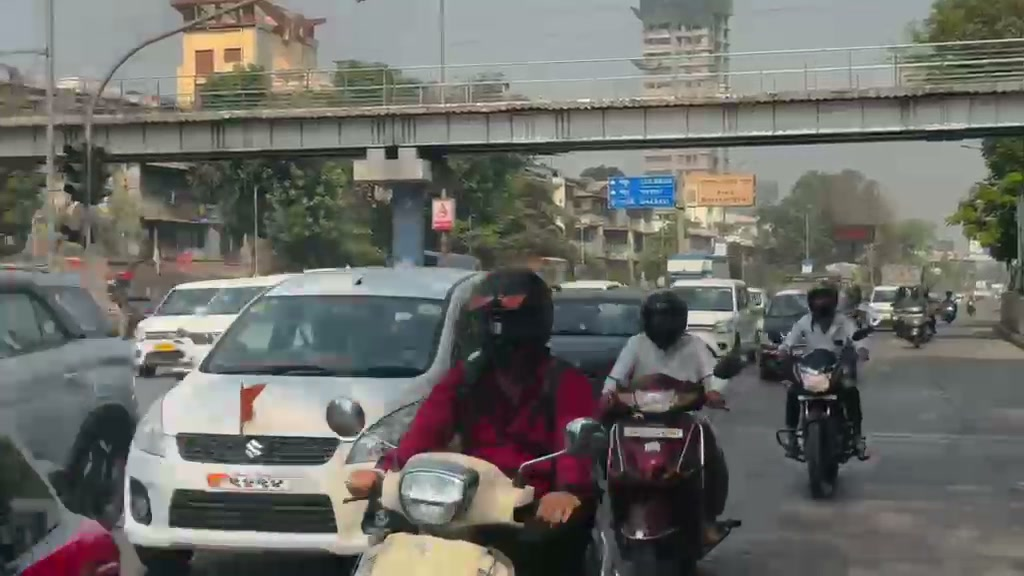car: (120, 265, 481, 569), (0, 268, 141, 520), (133, 276, 285, 378), (548, 282, 645, 390), (667, 277, 756, 377), (759, 291, 810, 346), (858, 285, 904, 330)
motorcycle: (341, 397, 585, 571), (570, 372, 735, 571), (343, 446, 581, 574), (772, 336, 872, 499), (892, 297, 936, 349)
pedestrian: (351, 267, 597, 548), (590, 292, 734, 540), (776, 282, 872, 460)
